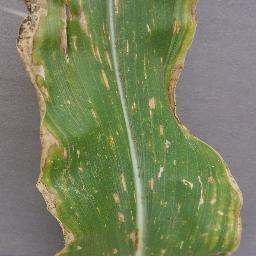Gray_Leaf_Spot: (161, 0, 202, 126), (13, 0, 53, 100), (31, 125, 70, 210), (216, 157, 244, 256), (44, 210, 82, 256), (109, 170, 130, 238), (155, 234, 218, 256), (59, 0, 77, 69), (195, 171, 216, 210), (77, 0, 93, 49), (148, 161, 167, 196), (71, 147, 87, 188), (96, 35, 114, 65), (34, 100, 54, 124), (97, 71, 113, 93), (131, 227, 144, 252), (141, 49, 150, 81), (104, 130, 117, 152), (87, 100, 99, 123), (146, 95, 158, 116), (103, 246, 124, 256), (178, 177, 193, 191), (129, 96, 140, 115), (113, 0, 123, 17), (123, 34, 131, 55), (157, 199, 169, 209), (165, 139, 174, 152), (143, 21, 152, 34), (156, 126, 167, 136), (178, 219, 189, 227), (175, 200, 181, 213), (171, 159, 180, 167)
